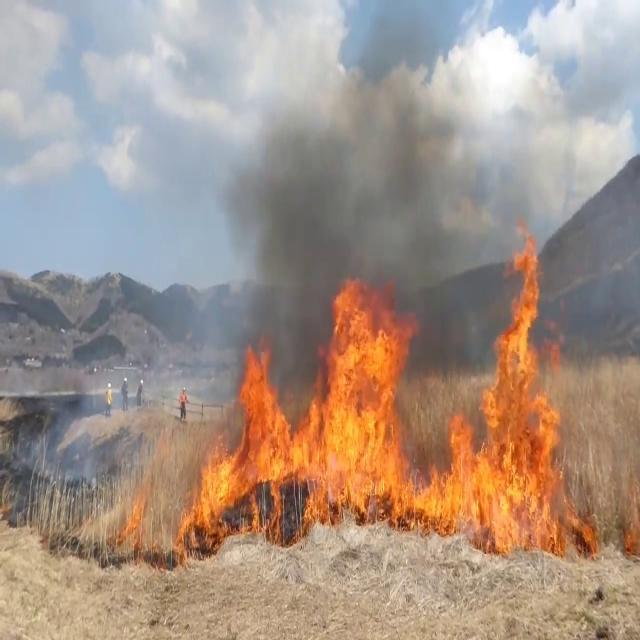Fire: (184, 274, 430, 530), (452, 218, 590, 554)
Smoke: (212, 16, 594, 339)
